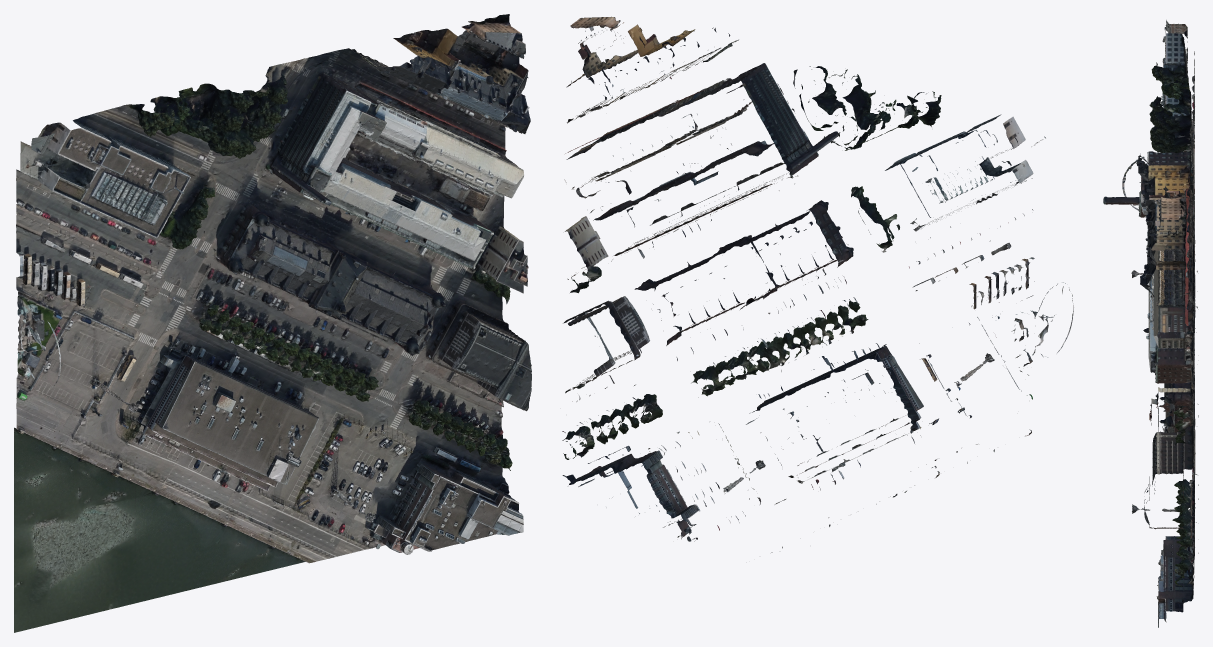
File: block.glb
The picture shows the model from 3 angles, left to right: view 1: azimuth 30°, elevation 25°; view 2: azimuth 150°, elevation 25°; view 3: azimuth 270°, elevation 25°; orthographic projection. The views are drawn at different scales.
Visible parts, largest first — view 1: Node (×65); view 2: Node (×24); view 3: Node (×25).
Boxes of the visible parts, x1,y1,x2,y2 form: Node (×65): [14, 14, 531, 632]; Node (×24): [562, 16, 1069, 537]; Node (×25): [1103, 20, 1195, 627].
Size of the model in its own units: 250 by 250 by 51.25.
65 materials, 65 textured.
